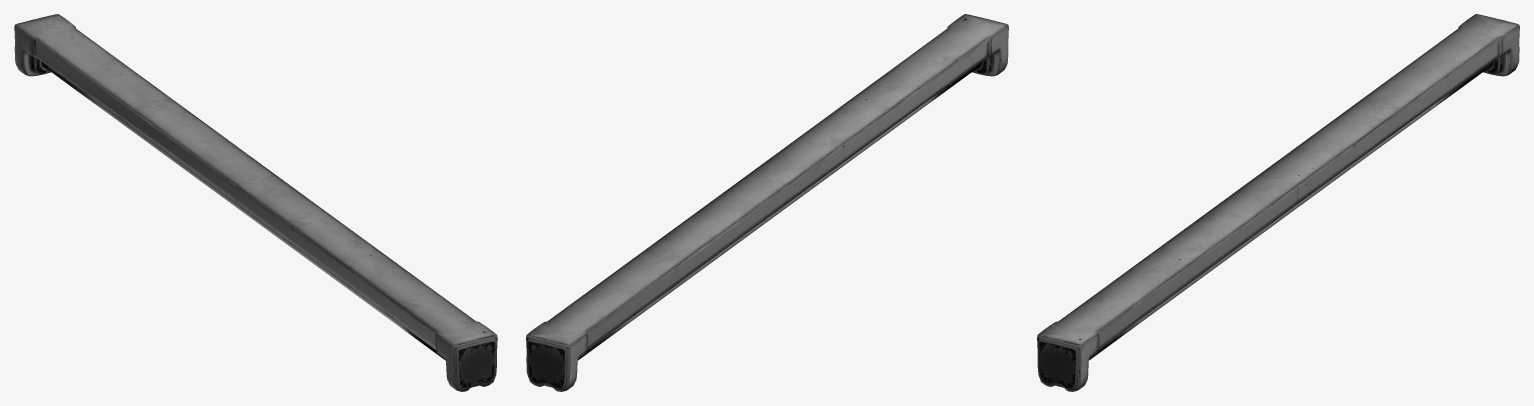
Rendered from lamp.obj.
3 renders of one model, left to right at view 1: azimuth 30°, elevation 25°; view 2: azimuth 150°, elevation 25°; view 3: azimuth 330°, elevation 25°, orthographic.
Parts seen in each view (by area): view 1: lump; view 2: lump; view 3: lump.
Part boxes in pixels (x1,y1,x2,y2): lump: [14, 14, 497, 391]; lump: [526, 14, 1008, 391]; lump: [1037, 14, 1519, 391].
Size of the model in its own units: 0.5848 by 0.6259 by 10.01.
